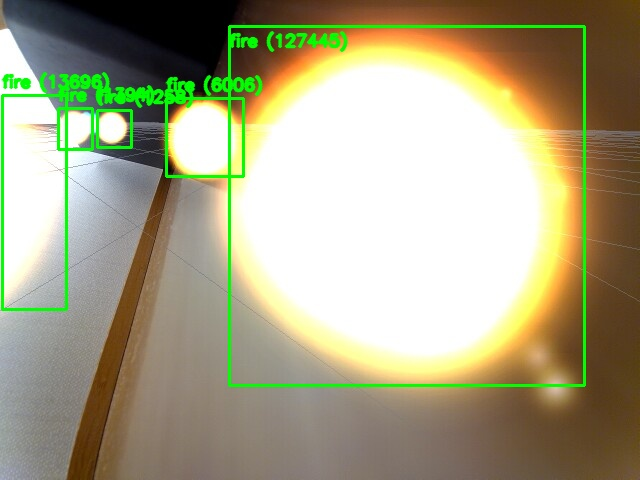fire: (229, 26, 584, 385), (2, 95, 66, 309), (166, 98, 243, 176), (58, 108, 92, 149), (97, 110, 131, 147)
